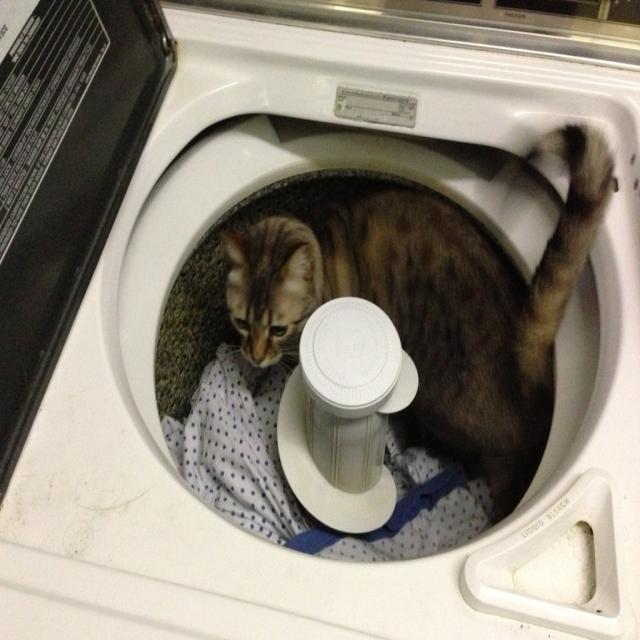Cat: (216, 121, 615, 516)
